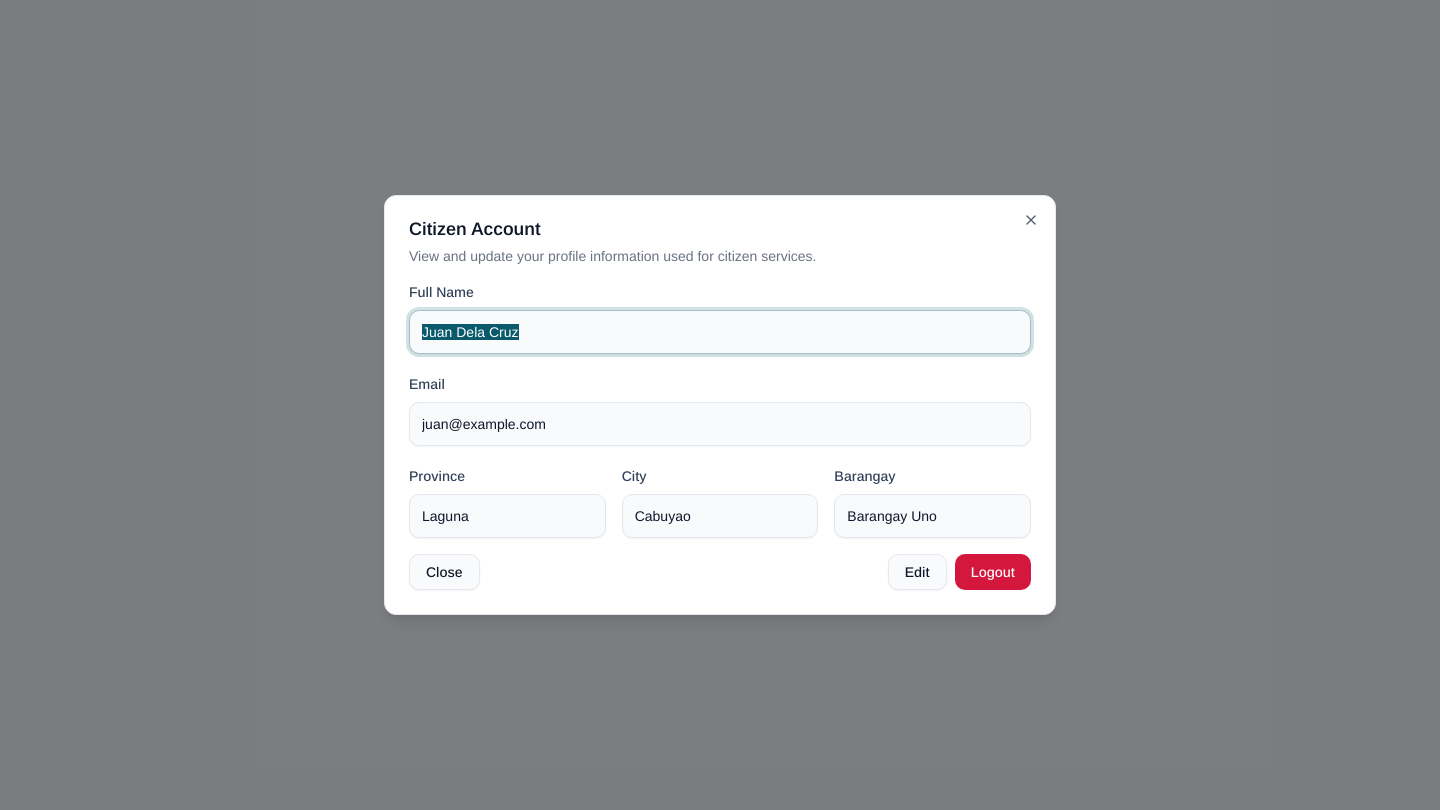
Test: CitizenAccountModal › disables Save until there is an actual change
Click the button "Edit". click: (917, 572)
box: [888,554,947,590]
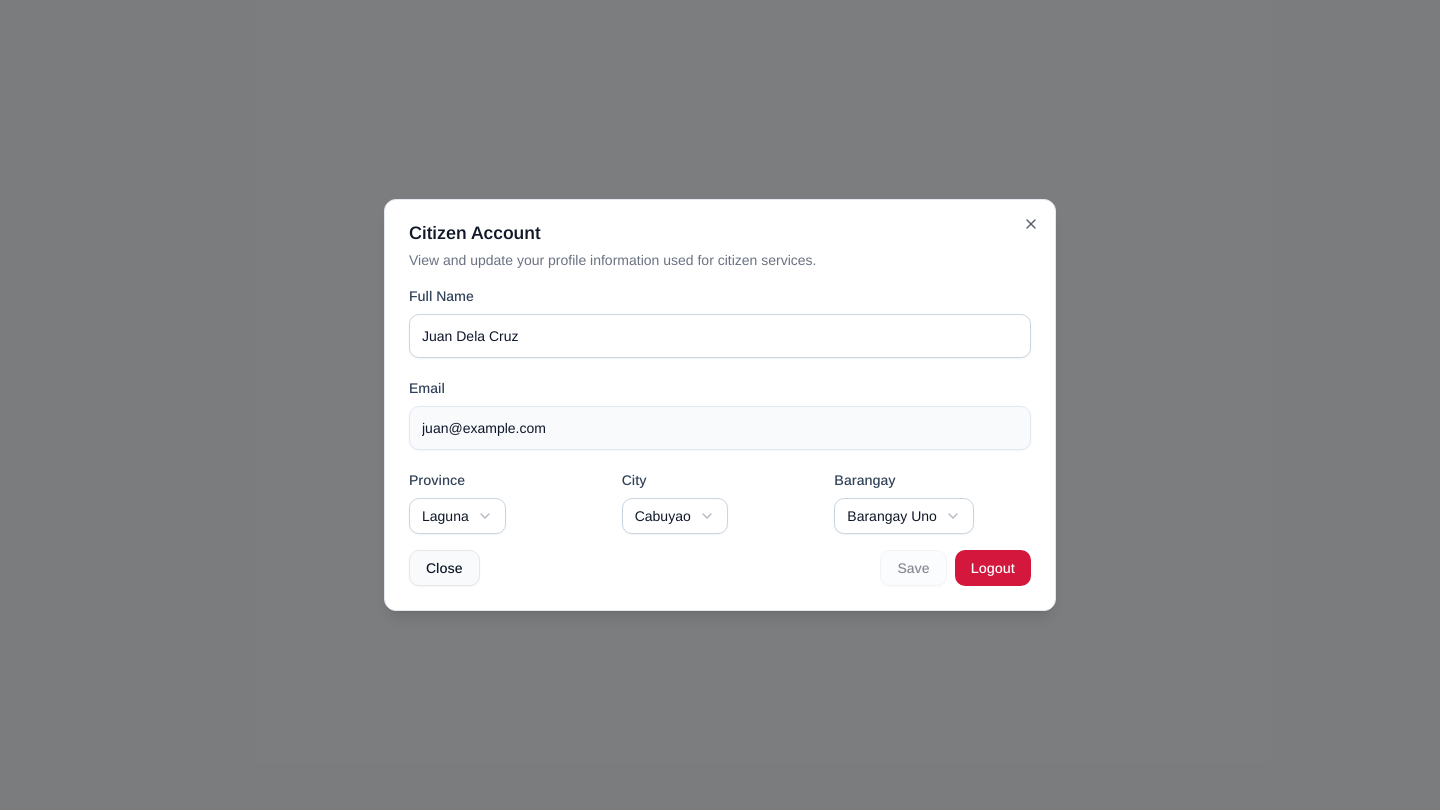
Expected: the button "Save" is disabled, [880,550,947,586]
Replace the text in the field labelled "Full Name" with "Juan Miguel Dela Cruz". click: (720, 336)
box: [409,314,1031,358]
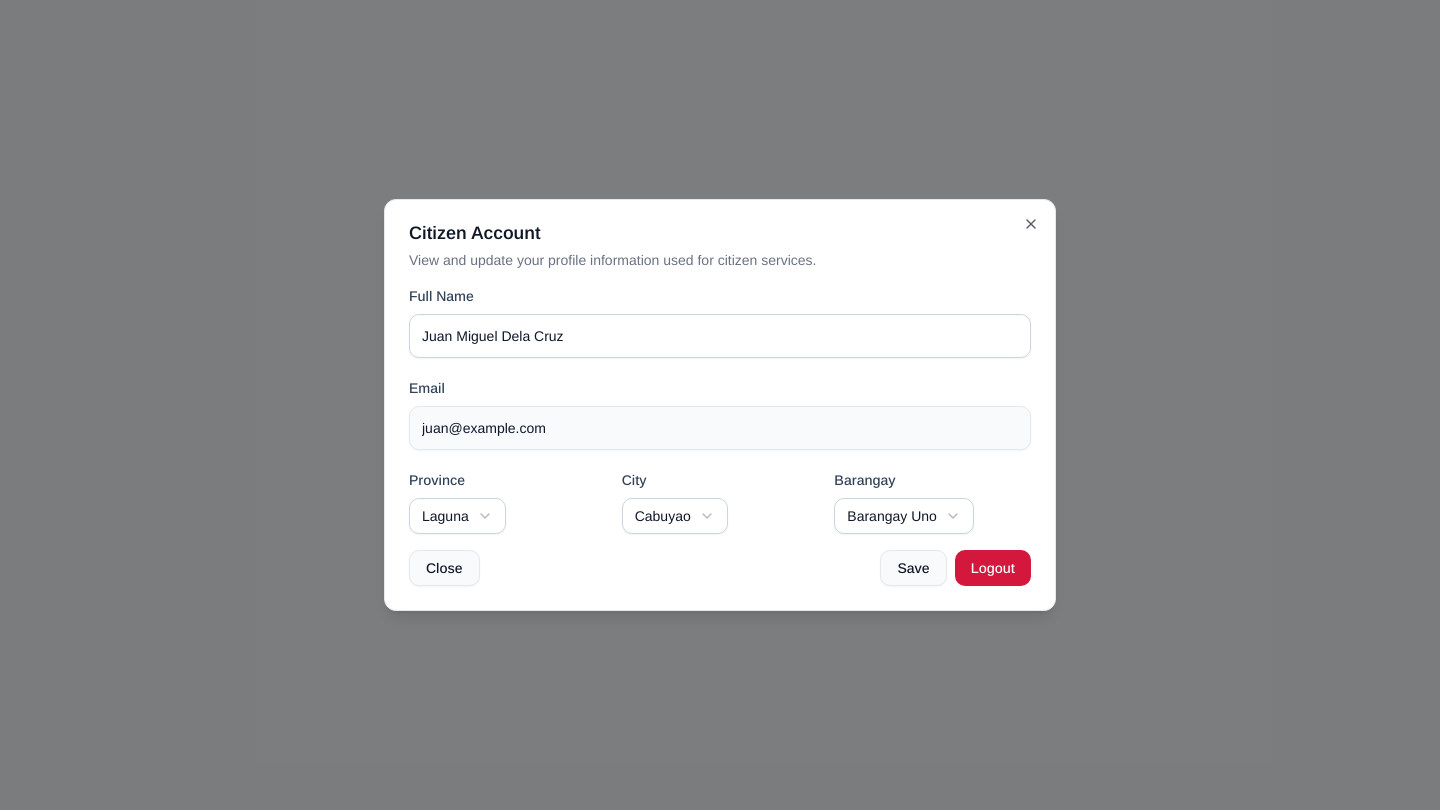
Expected: the button "Save" is enabled, [880,550,947,586]
